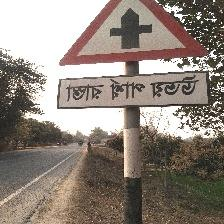Crossroad: (38, 0, 218, 118)
